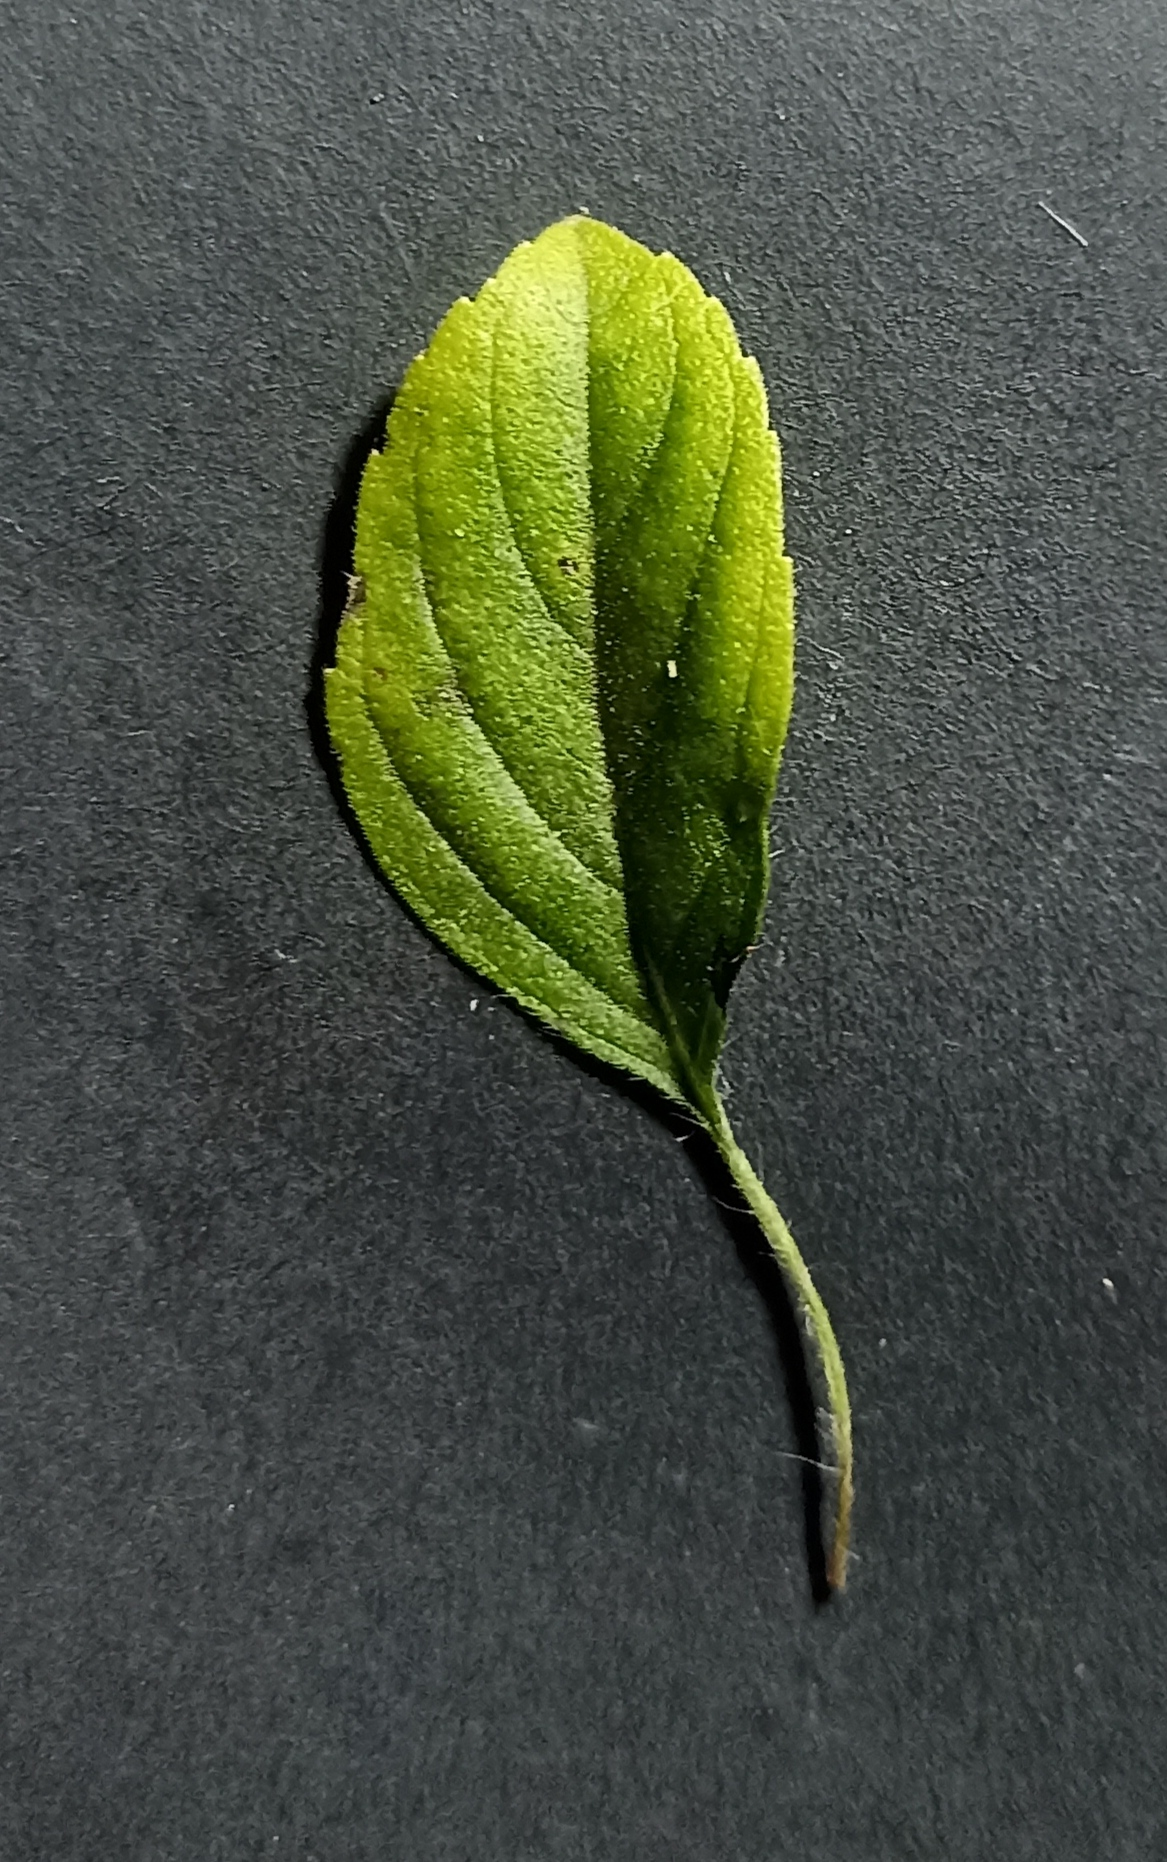Unhealthy: (305, 199, 805, 1159)
